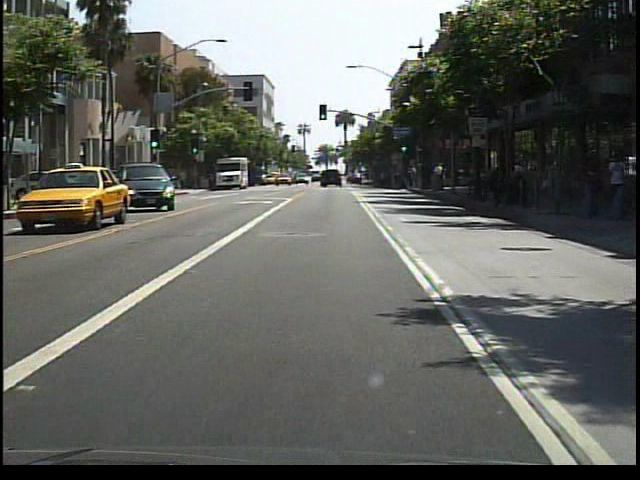person: (601, 150, 628, 190), (177, 164, 190, 190)
